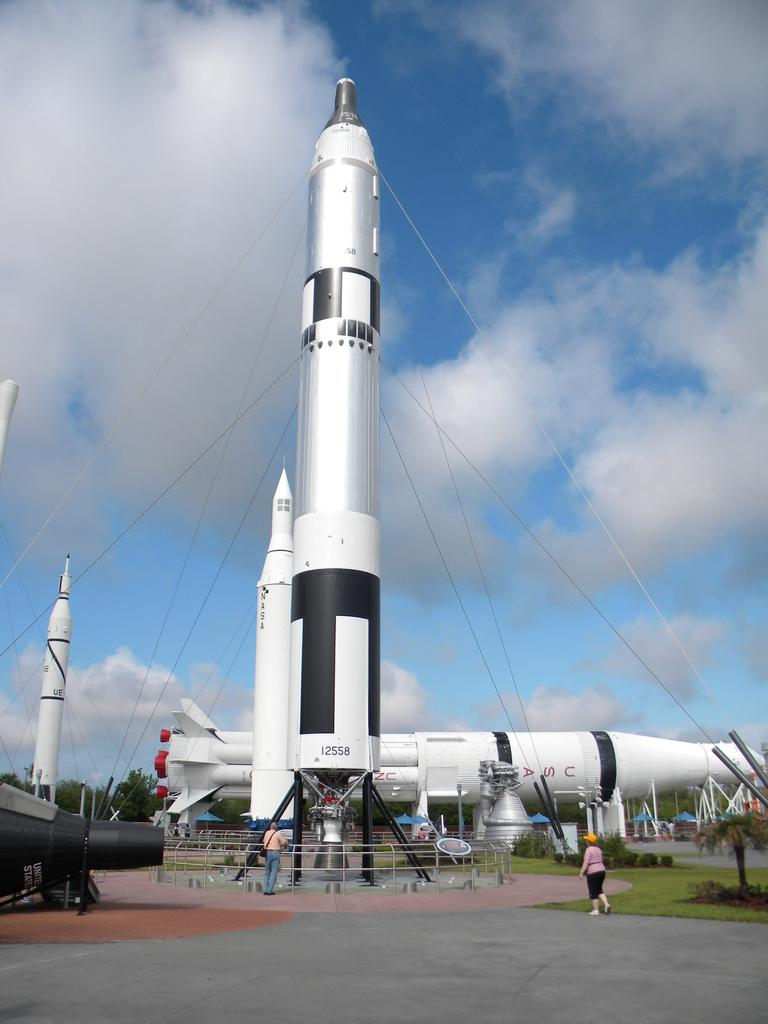Missile: (275, 77, 439, 891), (149, 686, 767, 831), (245, 473, 308, 882), (28, 548, 77, 796)
